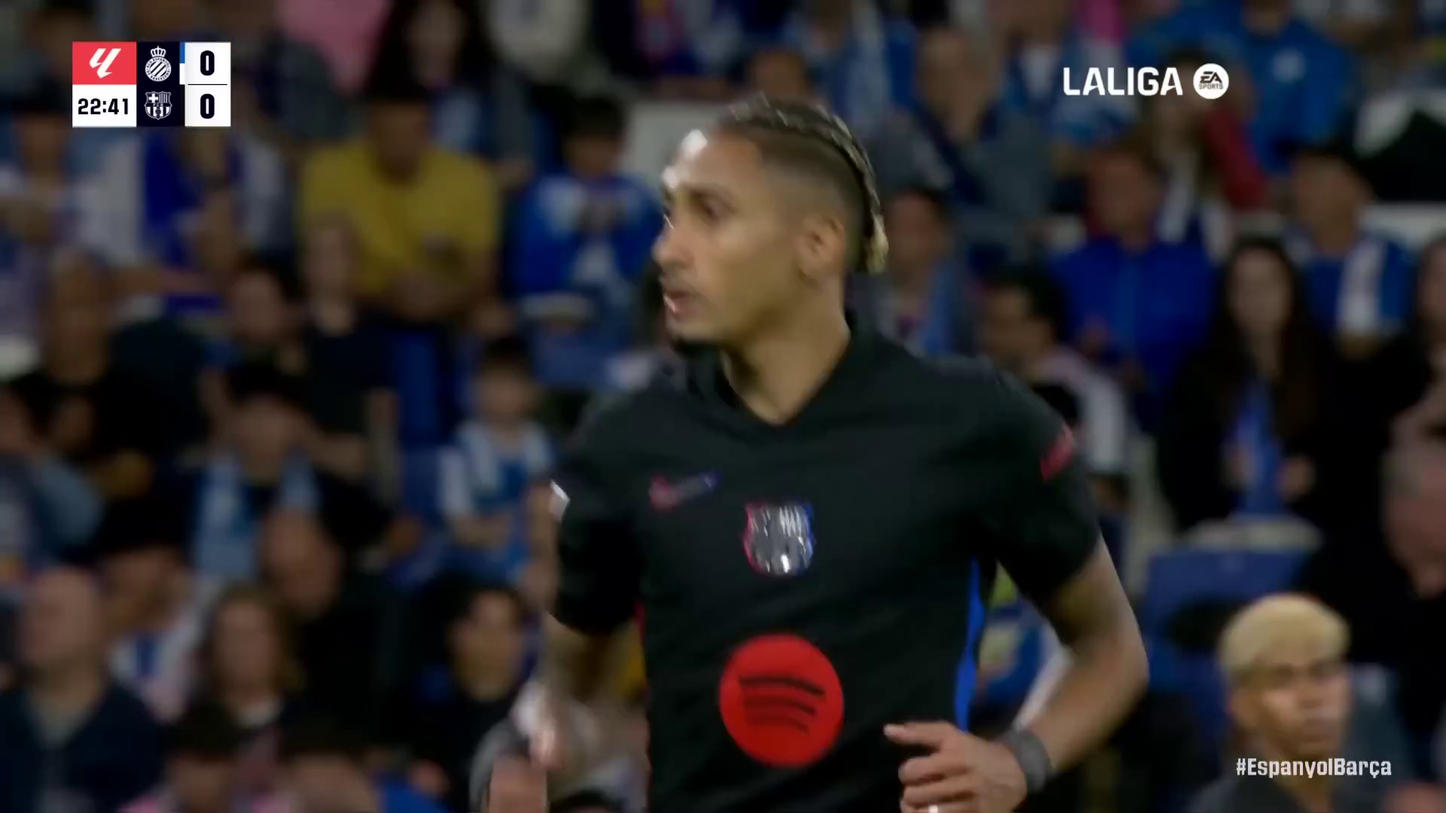player: (466, 90, 1152, 813)
